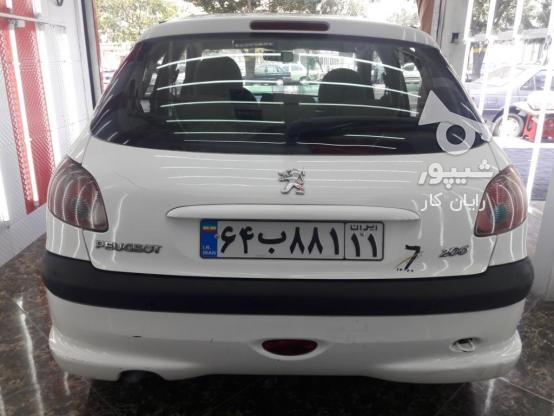car: (197, 219, 385, 262)
